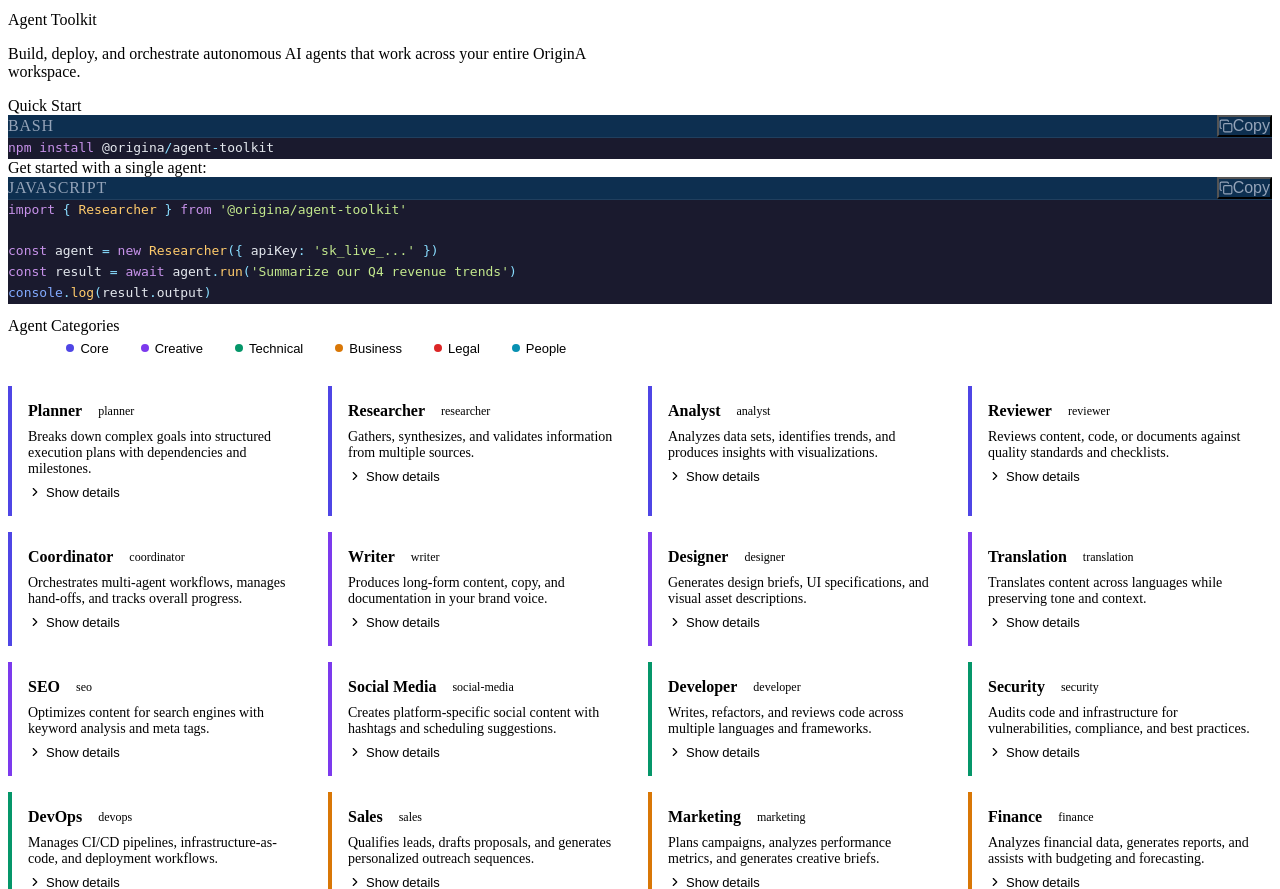
it: AgentToolkitPage › expands agent card to show details
Click the 4th button "Show details".
click(74, 492)  # box [28,485,120,500]
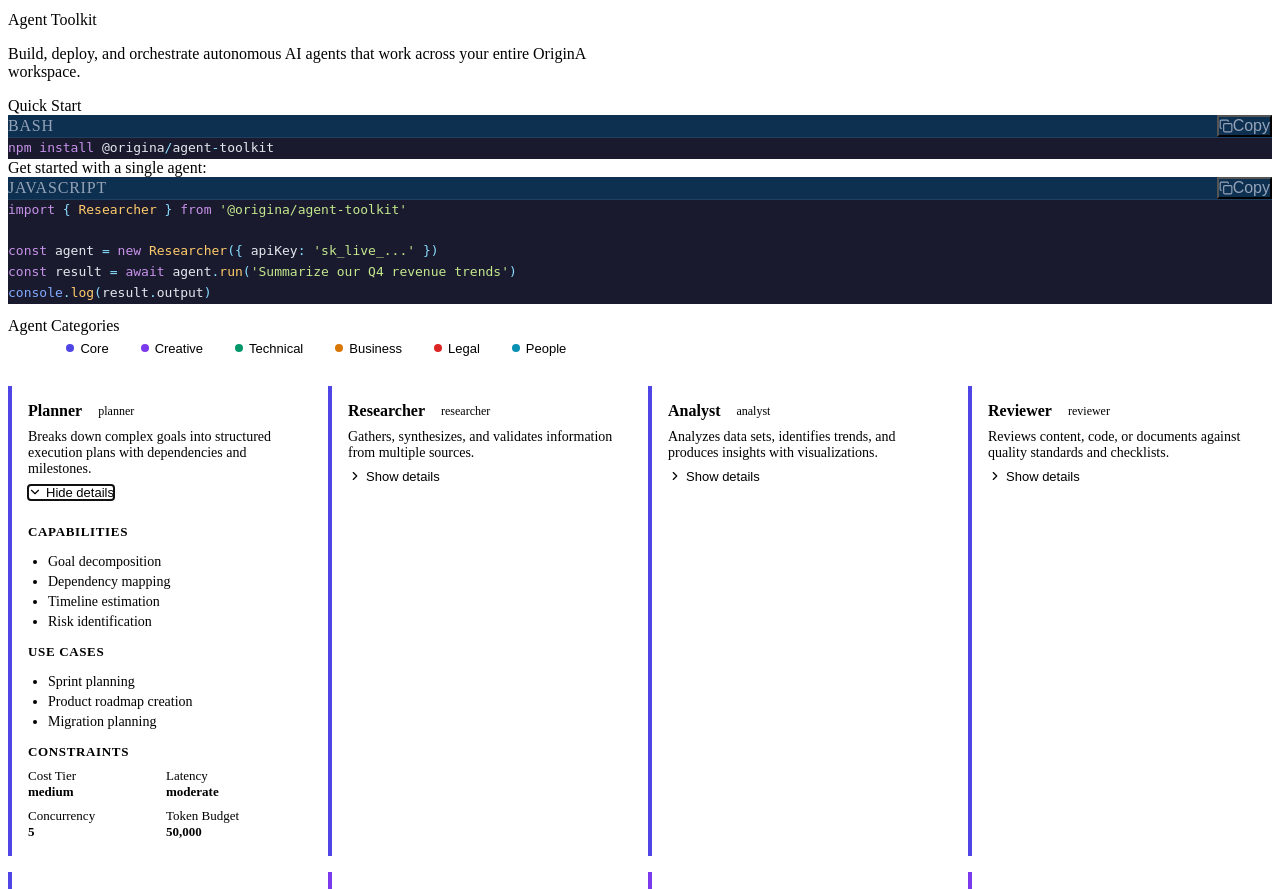
Expected: the heading "Capabilities" is shown, [28,524,128,539]
